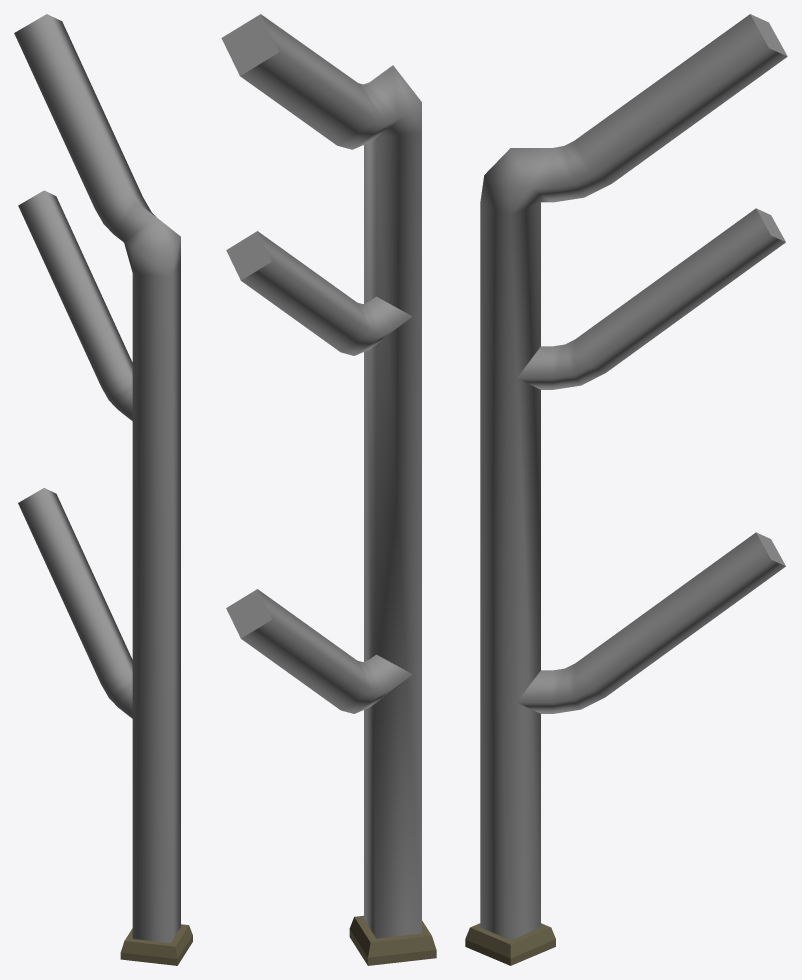
Rendered from SW_ENV_Railing_StairBase.fbx.
3 views of the same model, side by side, from view 1: azimuth 30°, elevation 25°; view 2: azimuth 150°, elevation 25°; view 3: azimuth 270°, elevation 25° (orthographic). The views are drawn at different scales.
Parts seen in each view (by area): view 1: SW_ENV_Railing_StairBase; view 2: SW_ENV_Railing_StairBase; view 3: SW_ENV_Railing_StairBase.
Boxes of the visible parts, x1,y1,x2,y2 form: SW_ENV_Railing_StairBase: (14,14,192,965); SW_ENV_Railing_StairBase: (221,14,436,965); SW_ENV_Railing_StairBase: (465,14,787,965).
Bounding box in the file's own units: 0.1068 × 1.21 × 0.3789.
